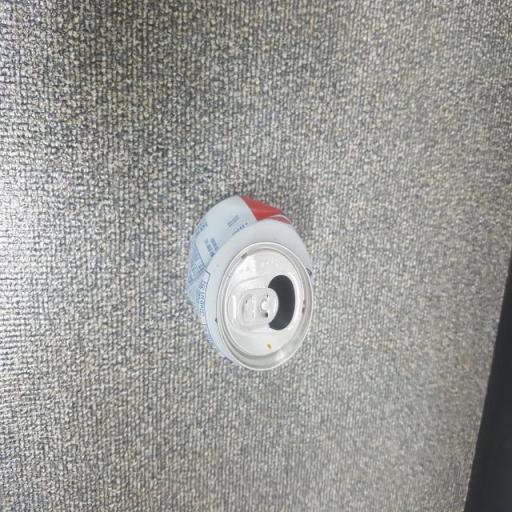metal: (166, 180, 336, 400)
